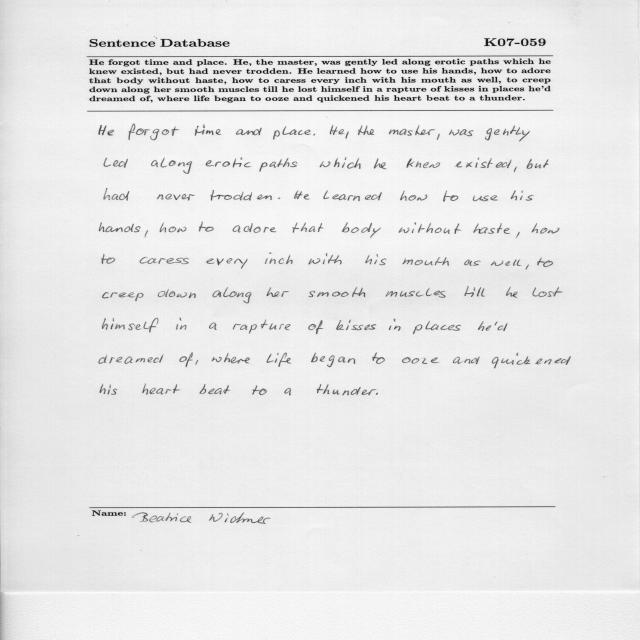word: (492, 353, 571, 369), (129, 124, 179, 140), (102, 318, 159, 332), (233, 320, 290, 334), (399, 222, 461, 234), (485, 126, 530, 142), (151, 157, 192, 174), (311, 353, 355, 368), (317, 384, 377, 395), (99, 354, 163, 364), (213, 288, 252, 304), (413, 321, 461, 334), (210, 190, 272, 200), (386, 288, 446, 298), (323, 191, 382, 201), (342, 223, 381, 238), (309, 287, 366, 297), (455, 158, 511, 168), (273, 126, 311, 140), (260, 158, 298, 172), (389, 125, 435, 136), (320, 157, 361, 169), (206, 258, 248, 269), (205, 158, 251, 168), (336, 320, 376, 331), (233, 223, 276, 233), (402, 257, 449, 266), (212, 353, 250, 364), (143, 384, 181, 395), (100, 223, 141, 233), (474, 223, 511, 234), (308, 253, 342, 264), (103, 292, 144, 301), (139, 257, 189, 264), (267, 353, 292, 367), (158, 289, 196, 298), (293, 222, 324, 233), (407, 158, 441, 168), (195, 124, 221, 136), (200, 384, 231, 394), (532, 223, 560, 234), (104, 189, 129, 201), (533, 287, 563, 297), (265, 253, 292, 264), (400, 191, 427, 201), (160, 223, 187, 233), (157, 194, 195, 201), (402, 357, 439, 364), (511, 190, 534, 201), (104, 158, 128, 168), (366, 254, 387, 265), (464, 286, 485, 297), (266, 287, 289, 297), (527, 159, 549, 169), (453, 357, 480, 365), (491, 259, 521, 266), (308, 320, 323, 334), (236, 128, 262, 136), (179, 353, 193, 367), (100, 384, 117, 395), (449, 129, 473, 136), (99, 125, 114, 136), (443, 191, 458, 202), (358, 125, 374, 135), (389, 318, 401, 331), (473, 196, 498, 202), (199, 222, 214, 232), (252, 385, 267, 395), (537, 258, 553, 267), (372, 353, 385, 364), (330, 125, 344, 135), (374, 159, 386, 170), (506, 287, 518, 298), (102, 254, 115, 264), (478, 321, 491, 331), (294, 191, 310, 199), (176, 318, 186, 330), (495, 321, 507, 331), (464, 259, 481, 266), (209, 323, 216, 330), (284, 388, 291, 395), (345, 131, 349, 139), (516, 232, 520, 238), (145, 230, 148, 237), (437, 134, 440, 140), (514, 166, 517, 172), (526, 264, 529, 270), (195, 360, 198, 365), (313, 134, 315, 136), (278, 197, 280, 199), (376, 393, 378, 395)
